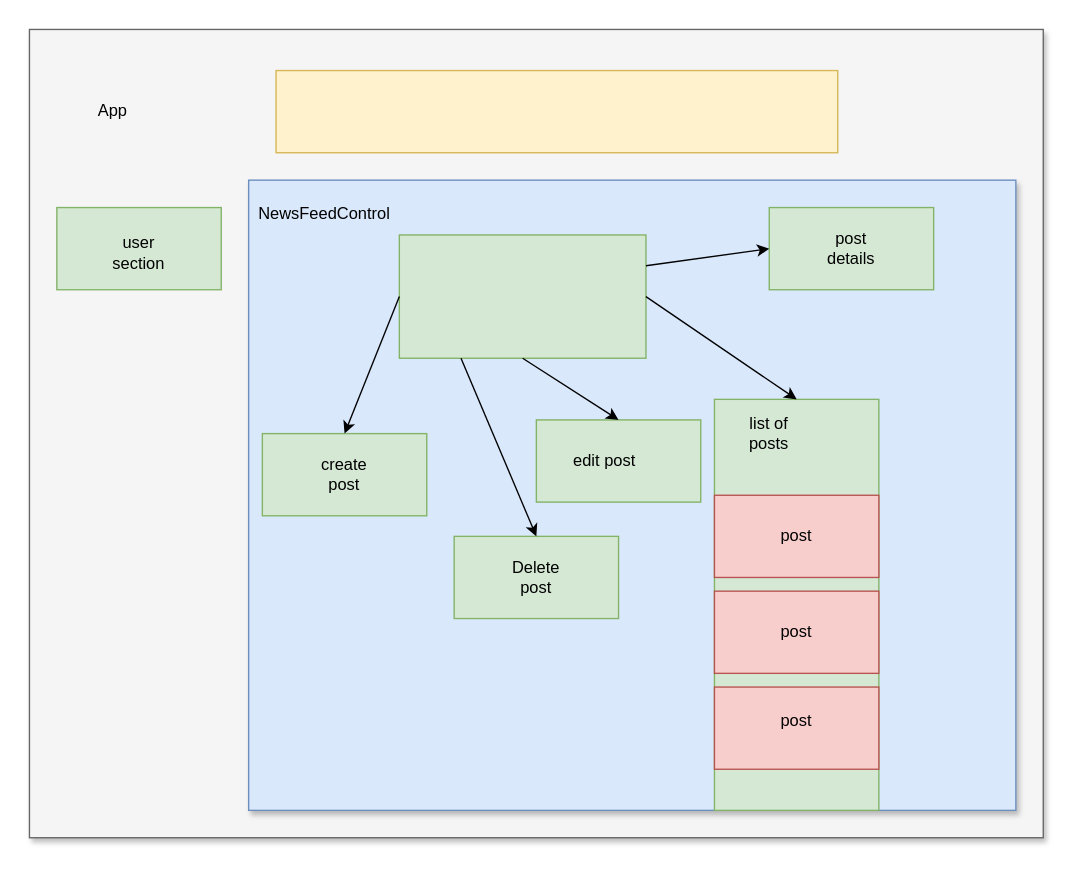
The diagram is 1075 pixels wide and 871 high, and some of its shapes have lost their labels. Each missing label, with the centre of its shape:
"Header" belongs at (556,111).
"newfeed" belongs at (522,296).
